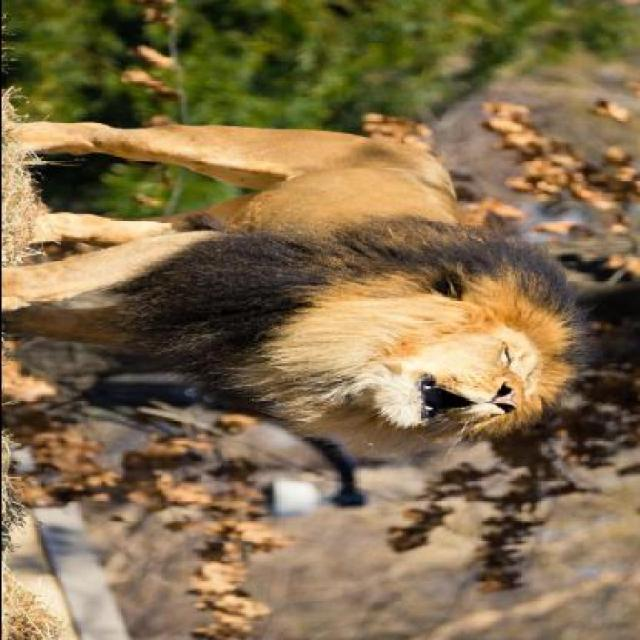Lion: (1, 103, 598, 463)
